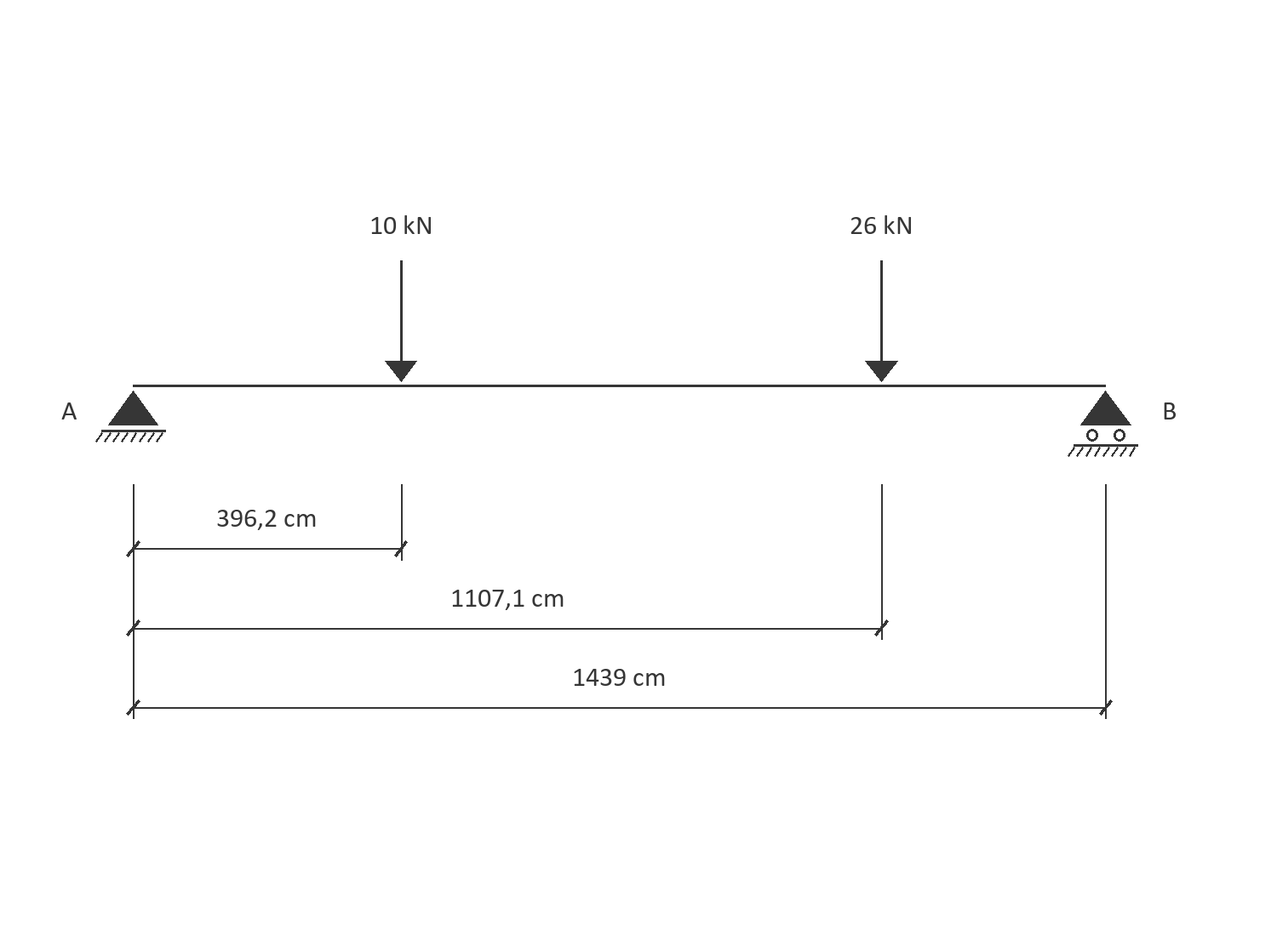pin_support: (95, 391, 166, 442)
point_load: (865, 260, 898, 382), (385, 260, 417, 382)
roller_support: (1068, 391, 1138, 457)
